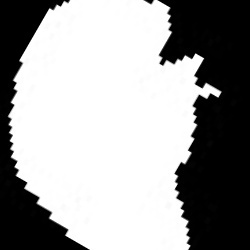spot: (8, 1, 221, 249)
